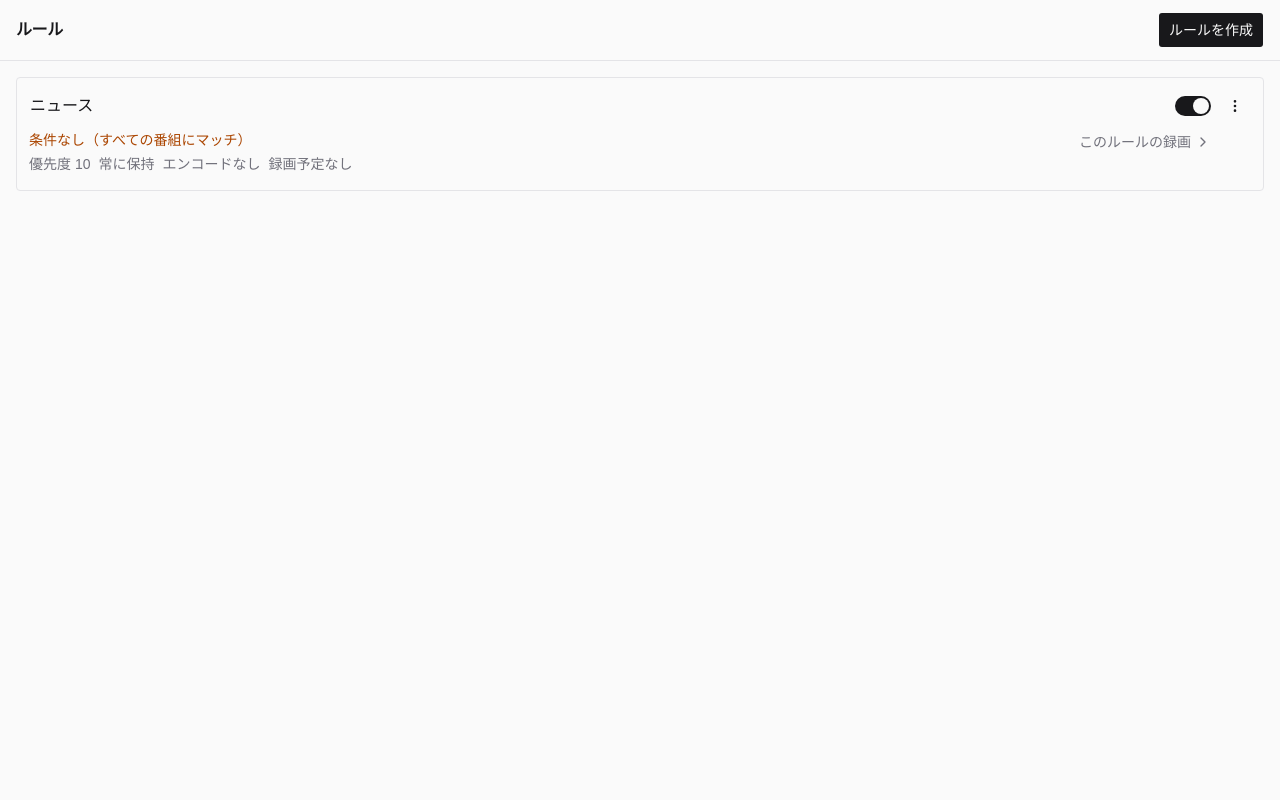
Test case: RulesPage ルールの有効スイッチ › 録画中が手動予約由来だけなら確認なしで無効にする
Click the switch named "ルール「ニュース」を有効にする": (1193, 106) [1171,90,1215,122]
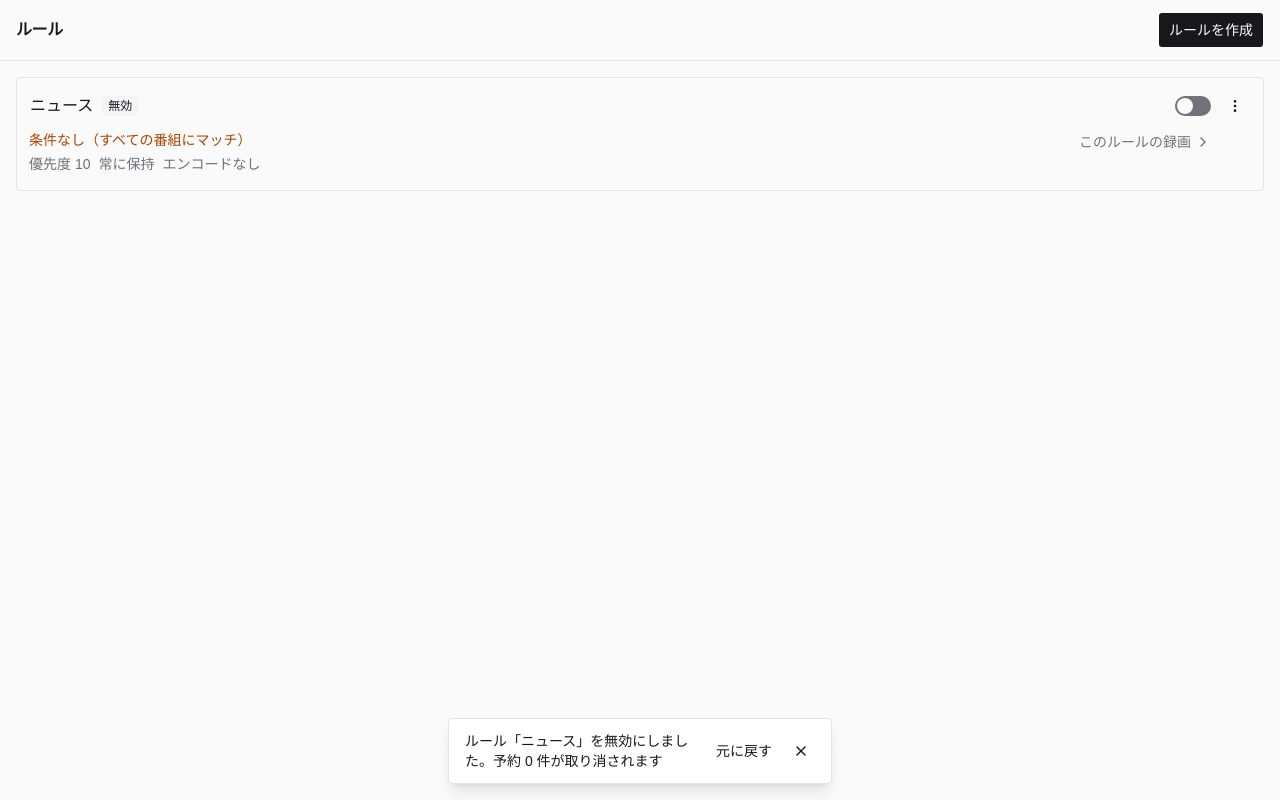
Expected: the text "ルール「ニュース」を無効にしました。予約 0 件が取り消されます" is shown, [465,731,693,771]
